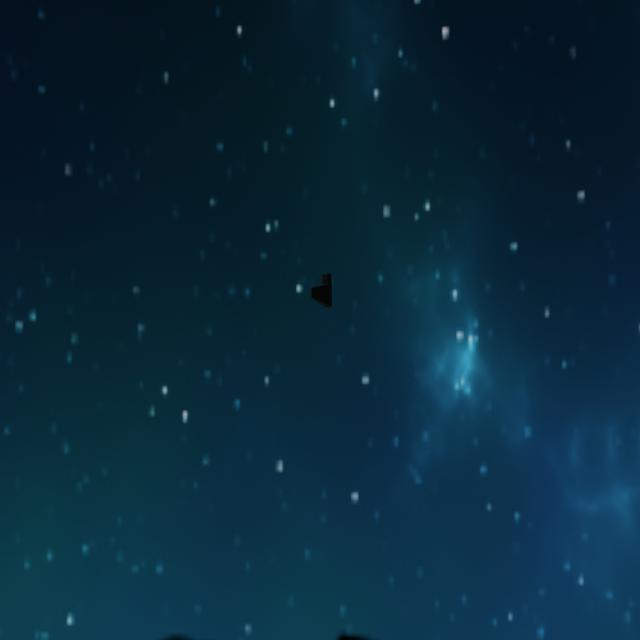large_debris: (310, 263, 338, 310)
